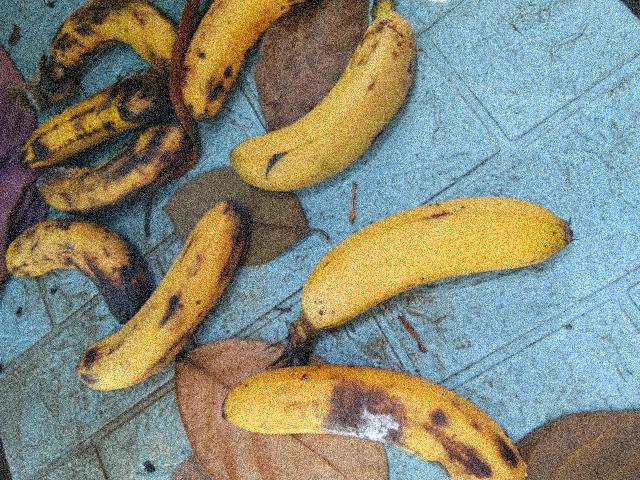freshripe: (278, 190, 587, 337)
ripe: (60, 197, 252, 407), (233, 3, 421, 188)
rotten: (218, 361, 539, 479), (28, 131, 182, 223), (176, 0, 287, 121), (5, 219, 147, 311), (28, 80, 156, 164), (41, 5, 170, 73)
